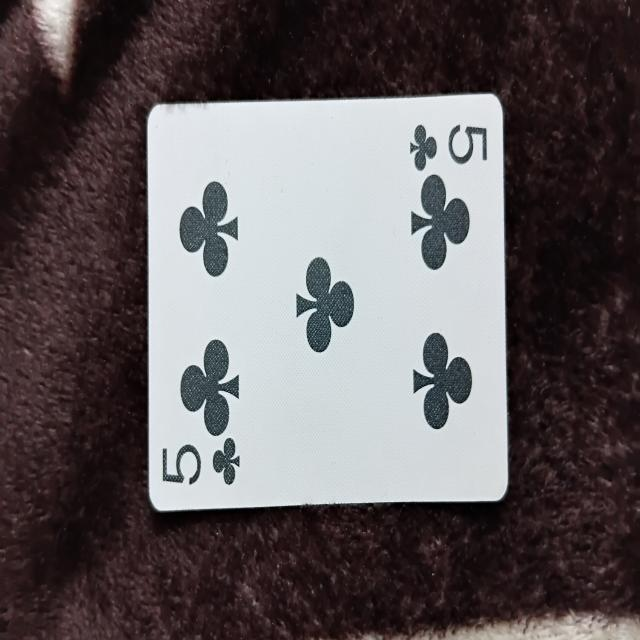5C: (146, 87, 504, 518)
